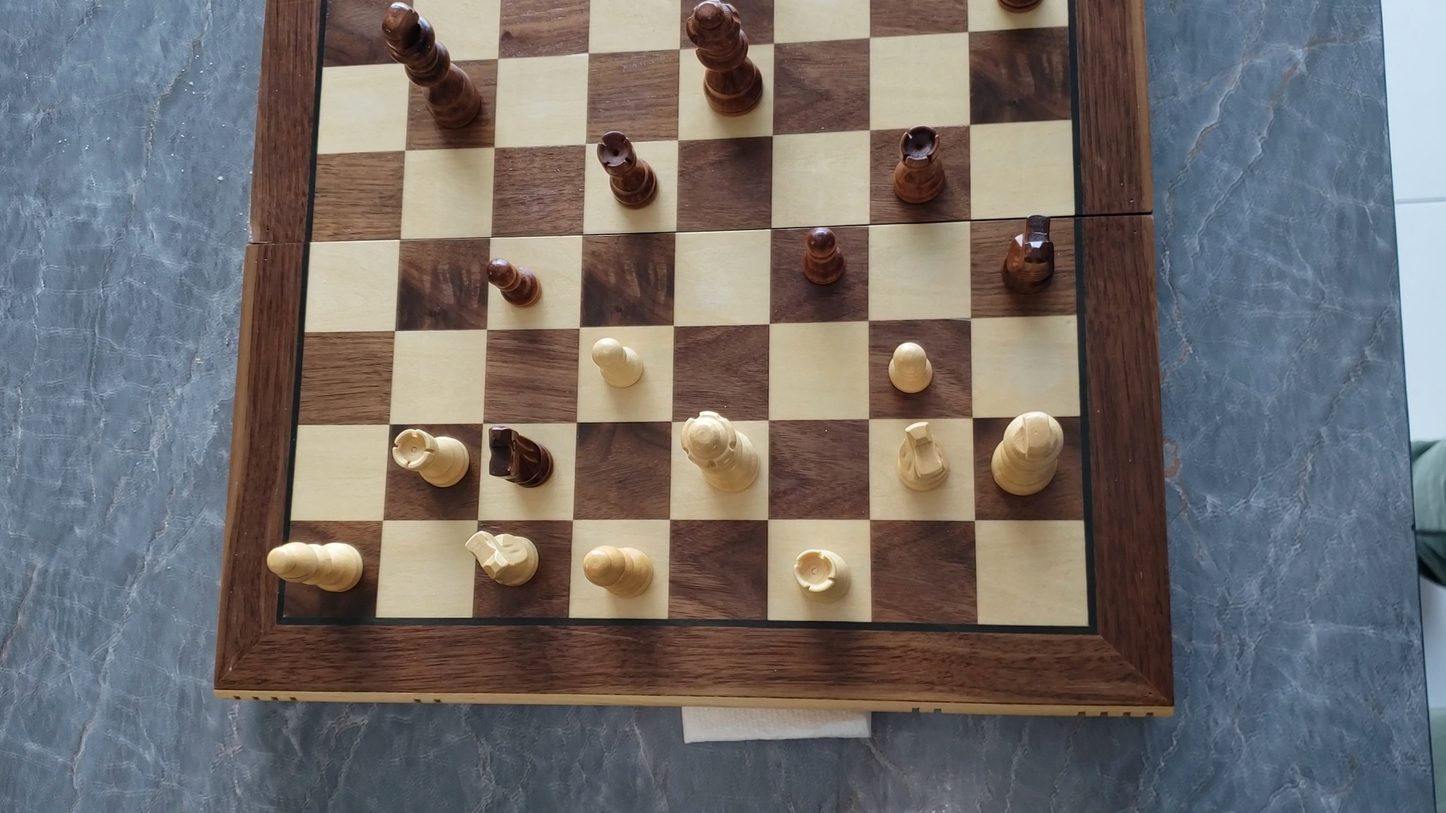black-king: (377, 0, 485, 124)
black-knight: (1000, 209, 1057, 294), (487, 423, 555, 488)
black-pawn: (798, 222, 847, 288), (484, 254, 542, 309)
black-queen: (677, 0, 772, 119)
black-rook: (587, 129, 676, 215), (888, 122, 947, 206)
white-bishop: (263, 537, 369, 595), (578, 541, 657, 600)
white-king: (988, 407, 1068, 499)
white-knight: (462, 525, 542, 590), (893, 418, 951, 495)
white-pawn: (587, 333, 650, 391), (883, 337, 938, 398)
white-queen: (675, 407, 765, 496)
white-rook: (390, 425, 470, 490), (787, 537, 857, 605)
